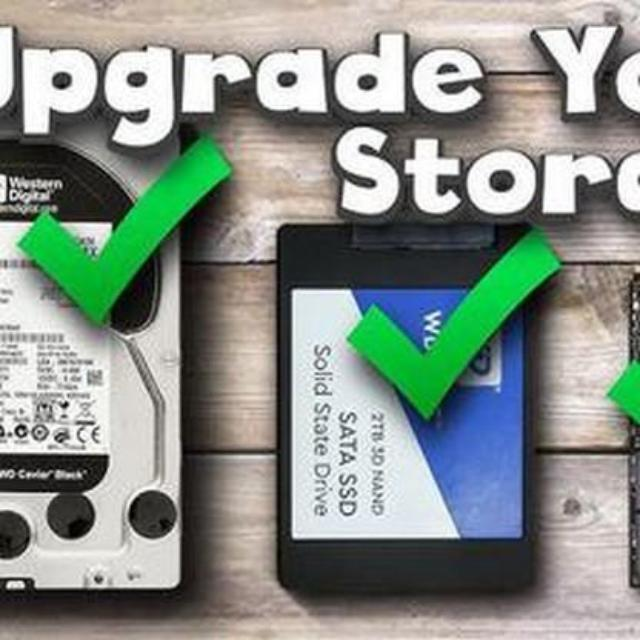DISK: (272, 215, 540, 583), (1, 106, 192, 600)
